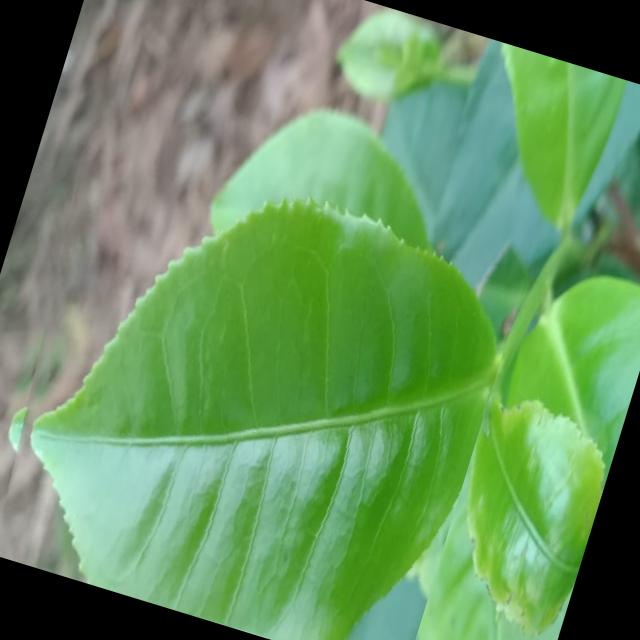Category B(2-4 days): (0, 136, 527, 640)
